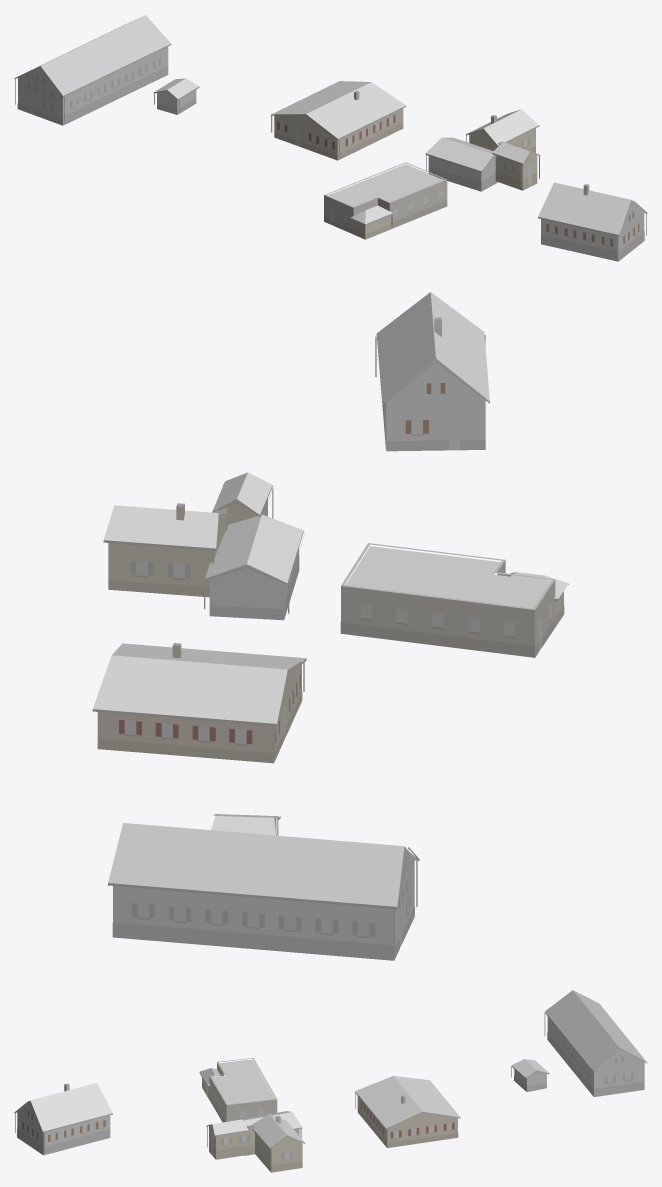
The picture shows the model from 3 angles, top to bottom: view 1: azimuth 30°, elevation 25°; view 2: azimuth 150°, elevation 25°; view 3: azimuth 270°, elevation 25°; orthographic projection. The views are drawn at different scales.
Visible parts, largest first — view 1: bld; view 2: bld; view 3: bld.
Part boxes in pixels (bbox=[...]): bld: bbox=[14, 15, 647, 261]; bld: bbox=[92, 292, 568, 960]; bld: bbox=[14, 990, 647, 1172].
Size of the model in its own units: 60.3 by 12.62 by 108.
